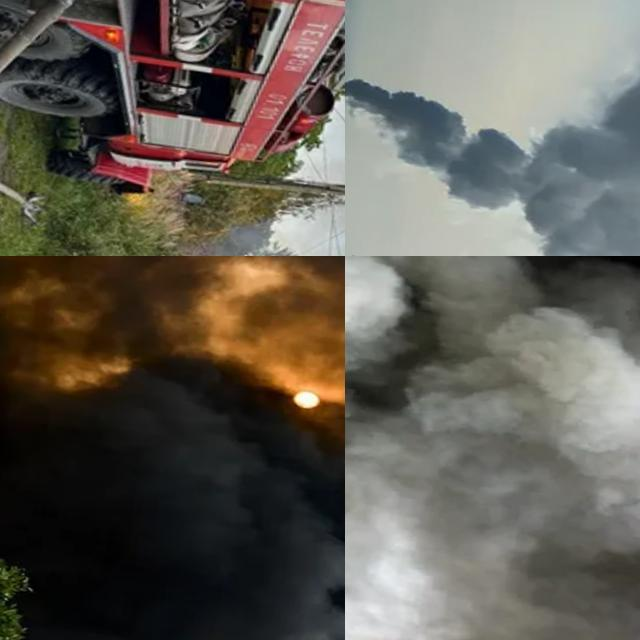smoke: (345, 256, 640, 640), (0, 330, 345, 640), (345, 33, 640, 256), (0, 256, 345, 399)
